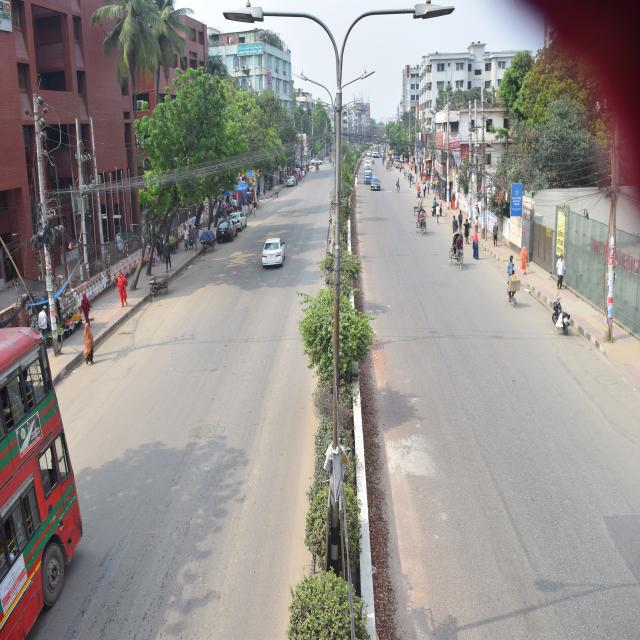bus: (6, 342, 88, 607)
car: (262, 234, 292, 287), (216, 217, 238, 250), (230, 202, 250, 235), (368, 180, 383, 200), (284, 175, 299, 193), (361, 157, 371, 172), (367, 172, 373, 186)
motorbike: (552, 298, 576, 339)
